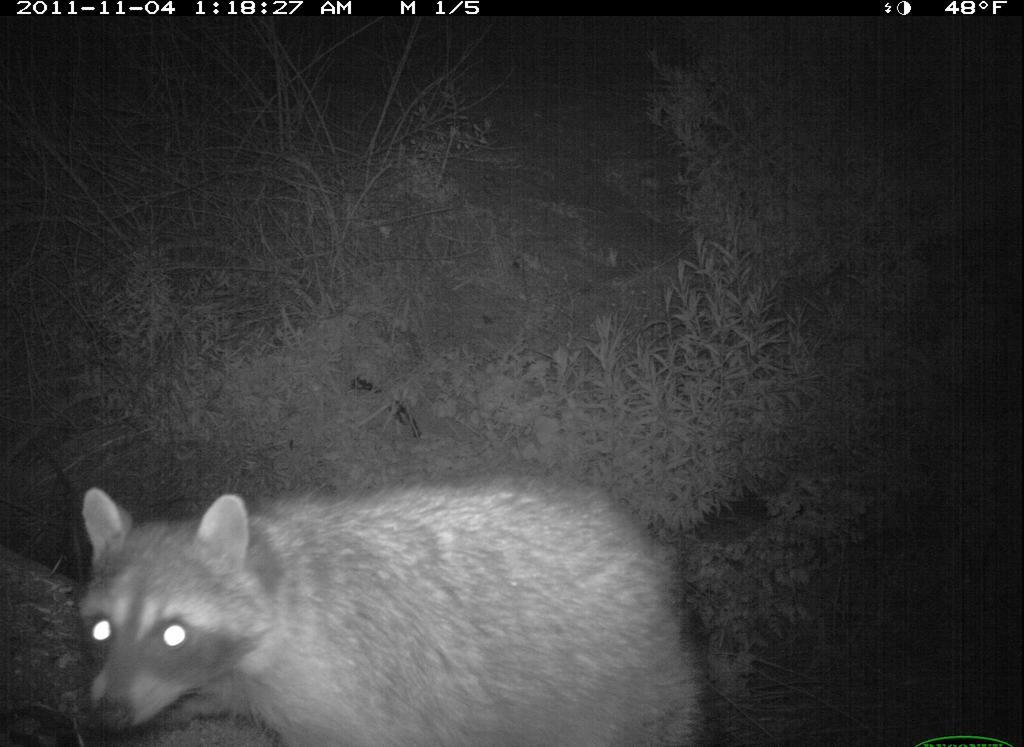raccoon: (54, 466, 731, 745)
